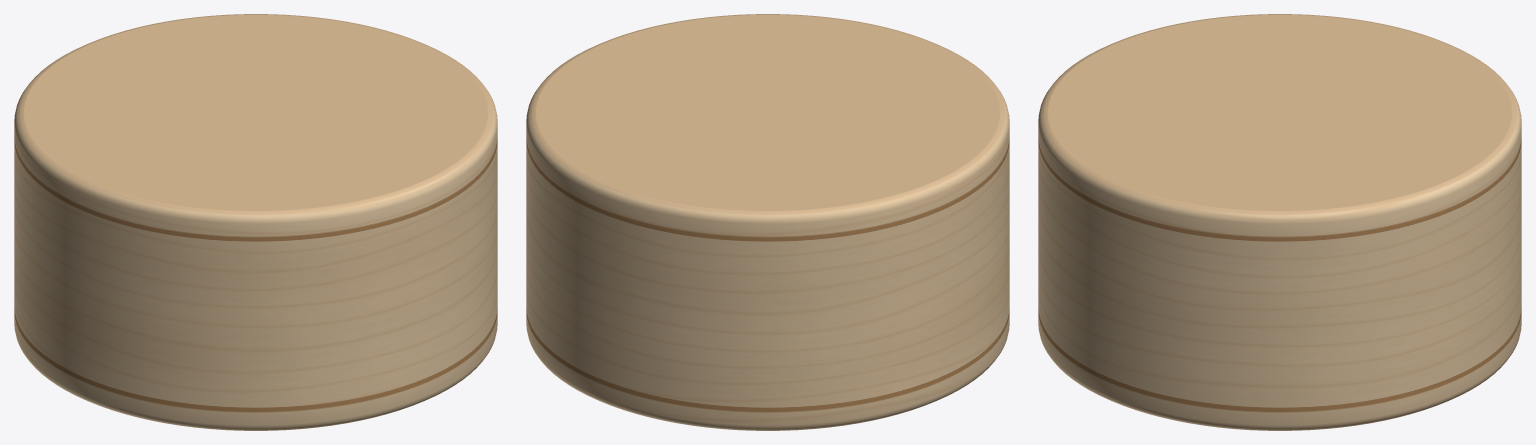
The model's file is tsumiki_wood.fbx.
3 views of the same model, side by side, from view 1: azimuth 30°, elevation 25°; view 2: azimuth 150°, elevation 25°; view 3: azimuth 270°, elevation 25° (orthographic).
Parts seen in each view (by area): view 1: tsumiki_wood; view 2: tsumiki_wood; view 3: tsumiki_wood.
Part boxes in pixels (box(x1,y1,x2,y2)): tsumiki_wood: box(14, 14, 497, 430); tsumiki_wood: box(526, 14, 1009, 430); tsumiki_wood: box(1038, 14, 1521, 430).
Bounding box in the file's own units: 1 × 0.5 × 1.
Materials: 1 (1 with a texture image).
